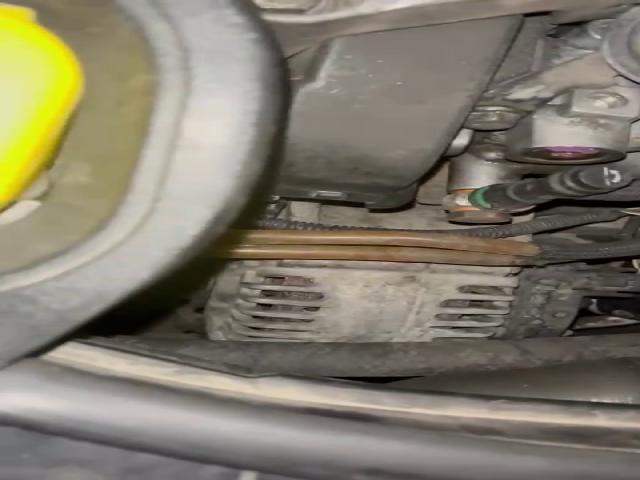alternator: (202, 255, 638, 342)
